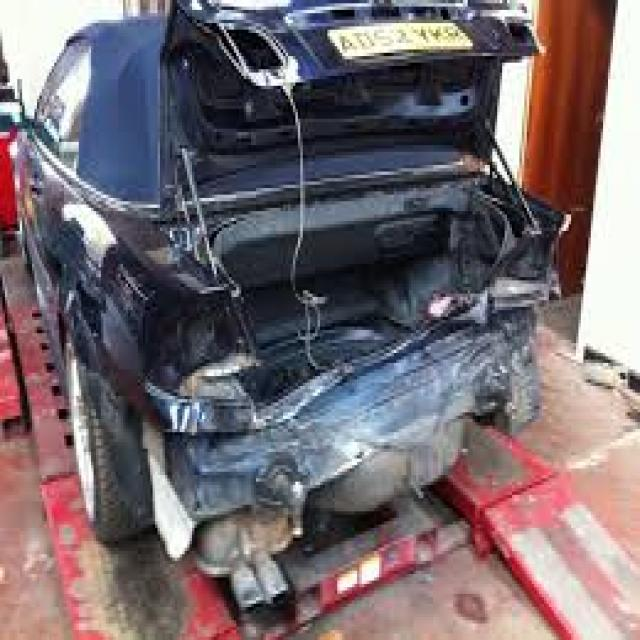severe: (153, 0, 542, 620)
